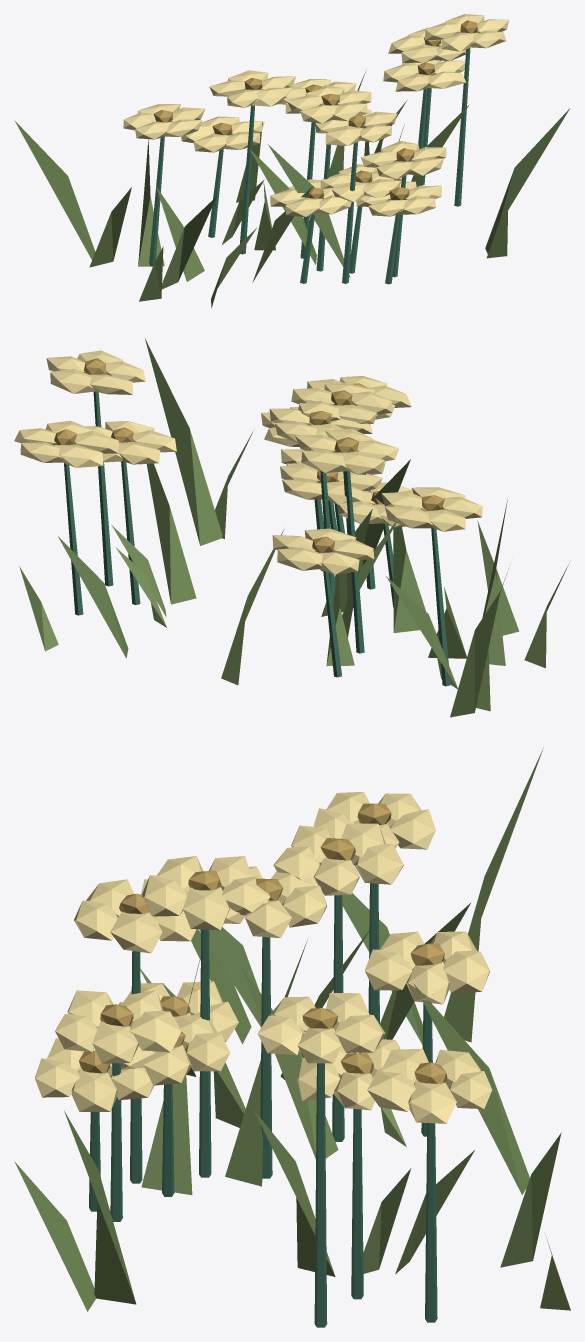
File: flower_patch_a.glb
The picture shows the model from 3 angles, top to bottom: view 1: azimuth 30°, elevation 25°; view 2: azimuth 150°, elevation 25°; view 3: azimuth 270°, elevation 25°; orthographic projection. The views are drawn at different scales.
Parts seen in each view (by area): view 1: flower_patch_a; view 2: flower_patch_a; view 3: flower_patch_a.
Part boxes in pixels (x1,y1,x2,y2): flower_patch_a: [14, 14, 569, 308]; flower_patch_a: [14, 338, 570, 717]; flower_patch_a: [14, 747, 570, 1327].
Bounding box in the file's own units: 1.65 × 0.6599 × 1.01.
